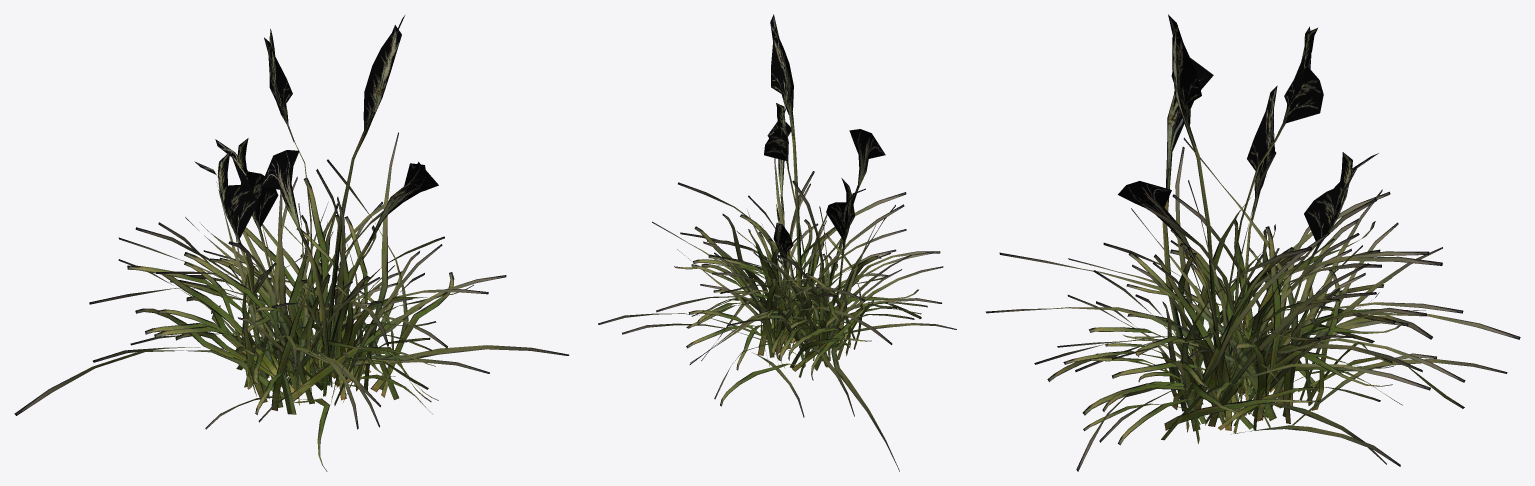
Rendered from grass_mid.glb.
3 views of the same model, side by side, from view 1: azimuth 30°, elevation 25°; view 2: azimuth 150°, elevation 25°; view 3: azimuth 270°, elevation 25° (orthographic). The views are drawn at different scales.
Visible parts, largest first — view 1: export_grass_mid; view 2: export_grass_mid; view 3: export_grass_mid.
Part boxes in pixels (x1,y1,x2,y2): export_grass_mid: [14, 15, 568, 471]; export_grass_mid: [598, 14, 956, 471]; export_grass_mid: [985, 14, 1520, 471].
Bounding box in the file's own units: 0.2156 × 0.2177 × 0.2214.
1 material, 1 textured.
